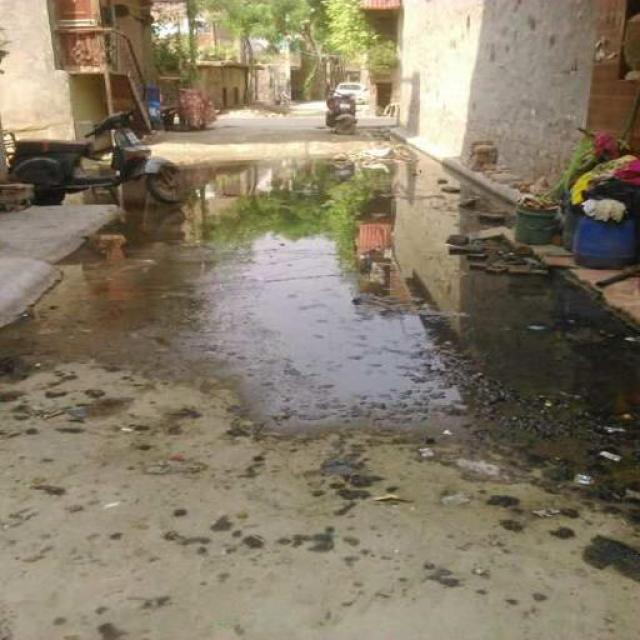puddle: (363, 160, 468, 419), (455, 268, 616, 428), (191, 169, 366, 240)
